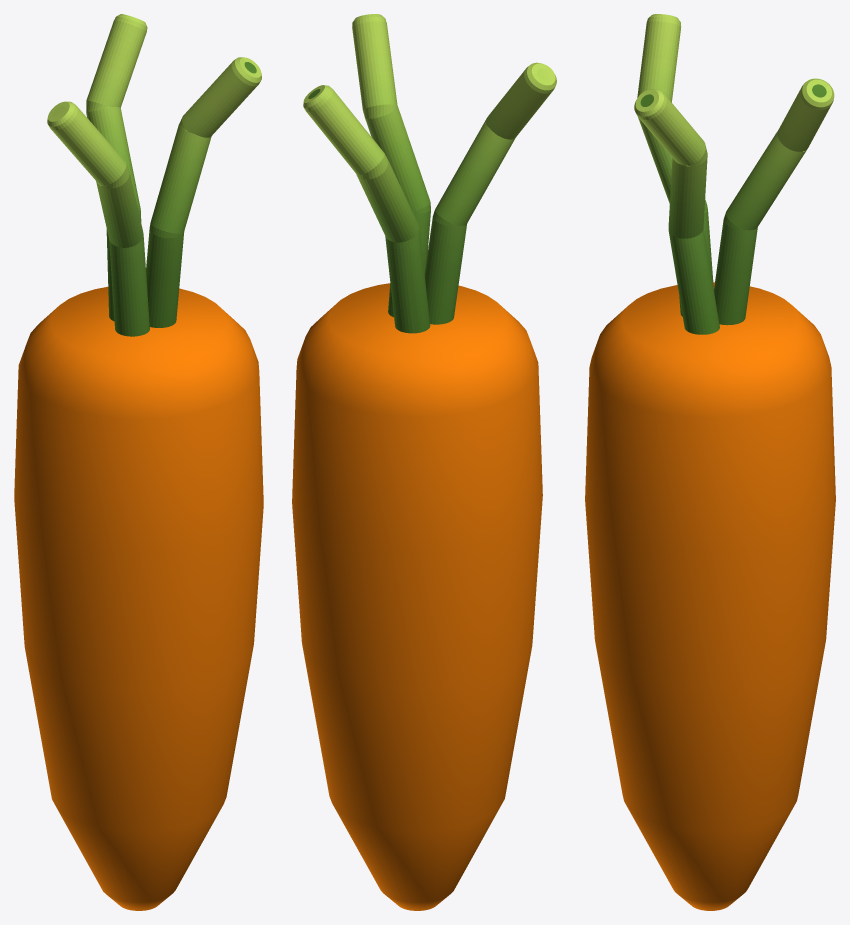
Rendered from carrot.fbx.
3 views of the same model, side by side, from view 1: azimuth 30°, elevation 25°; view 2: azimuth 150°, elevation 25°; view 3: azimuth 270°, elevation 25° (orthographic).
Visible parts, largest first — view 1: Cylinder, Stem 1, Stem 3, Stem 2; view 2: Cylinder, Stem 3, Stem 2, Stem 1; view 3: Cylinder, Stem 2, Stem 1, Stem 3.
Part boxes in pixels (x1,y1,x2,y2): Cylinder: (14,286,263,910); Stem 1: (146,57,261,327); Stem 3: (47,101,149,336); Stem 2: (86,14,147,321); Cylinder: (292,283,542,910); Stem 3: (424,62,556,324); Stem 2: (303,85,430,333); Stem 1: (352,14,430,317); Cylinder: (585,282,835,910); Stem 2: (714,78,834,325); Stem 1: (634,89,719,334); Stem 3: (637,14,713,316).
Bounding box in the file's own units: 204 × 746 × 200.
